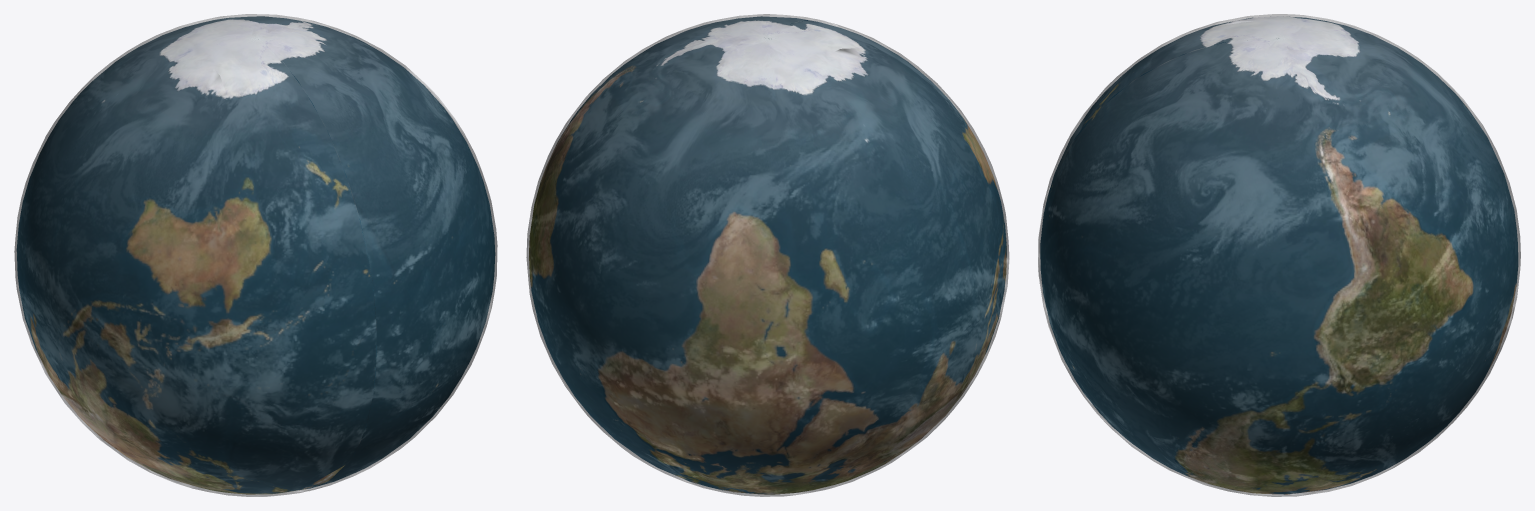
Rendered from planet_gesund.glb.
3 views of the same model, side by side, from view 1: azimuth 30°, elevation 25°; view 2: azimuth 150°, elevation 25°; view 3: azimuth 270°, elevation 25° (orthographic).
Parts seen in each view (by area): view 1: Clouds_Clouds_0, Earth_Planet_0; view 2: Clouds_Clouds_0, Earth_Planet_0; view 3: Clouds_Clouds_0, Earth_Planet_0.
Part boxes in pixels (x1,y1,x2,y2): Clouds_Clouds_0: [14, 14, 497, 496]; Earth_Planet_0: [16, 16, 495, 494]; Clouds_Clouds_0: [526, 14, 1009, 496]; Earth_Planet_0: [529, 16, 1006, 494]; Clouds_Clouds_0: [1038, 14, 1520, 496]; Earth_Planet_0: [1040, 16, 1518, 494].
Size of the model in its own units: 1 by 1 by 1.
2 materials, 2 textured.
